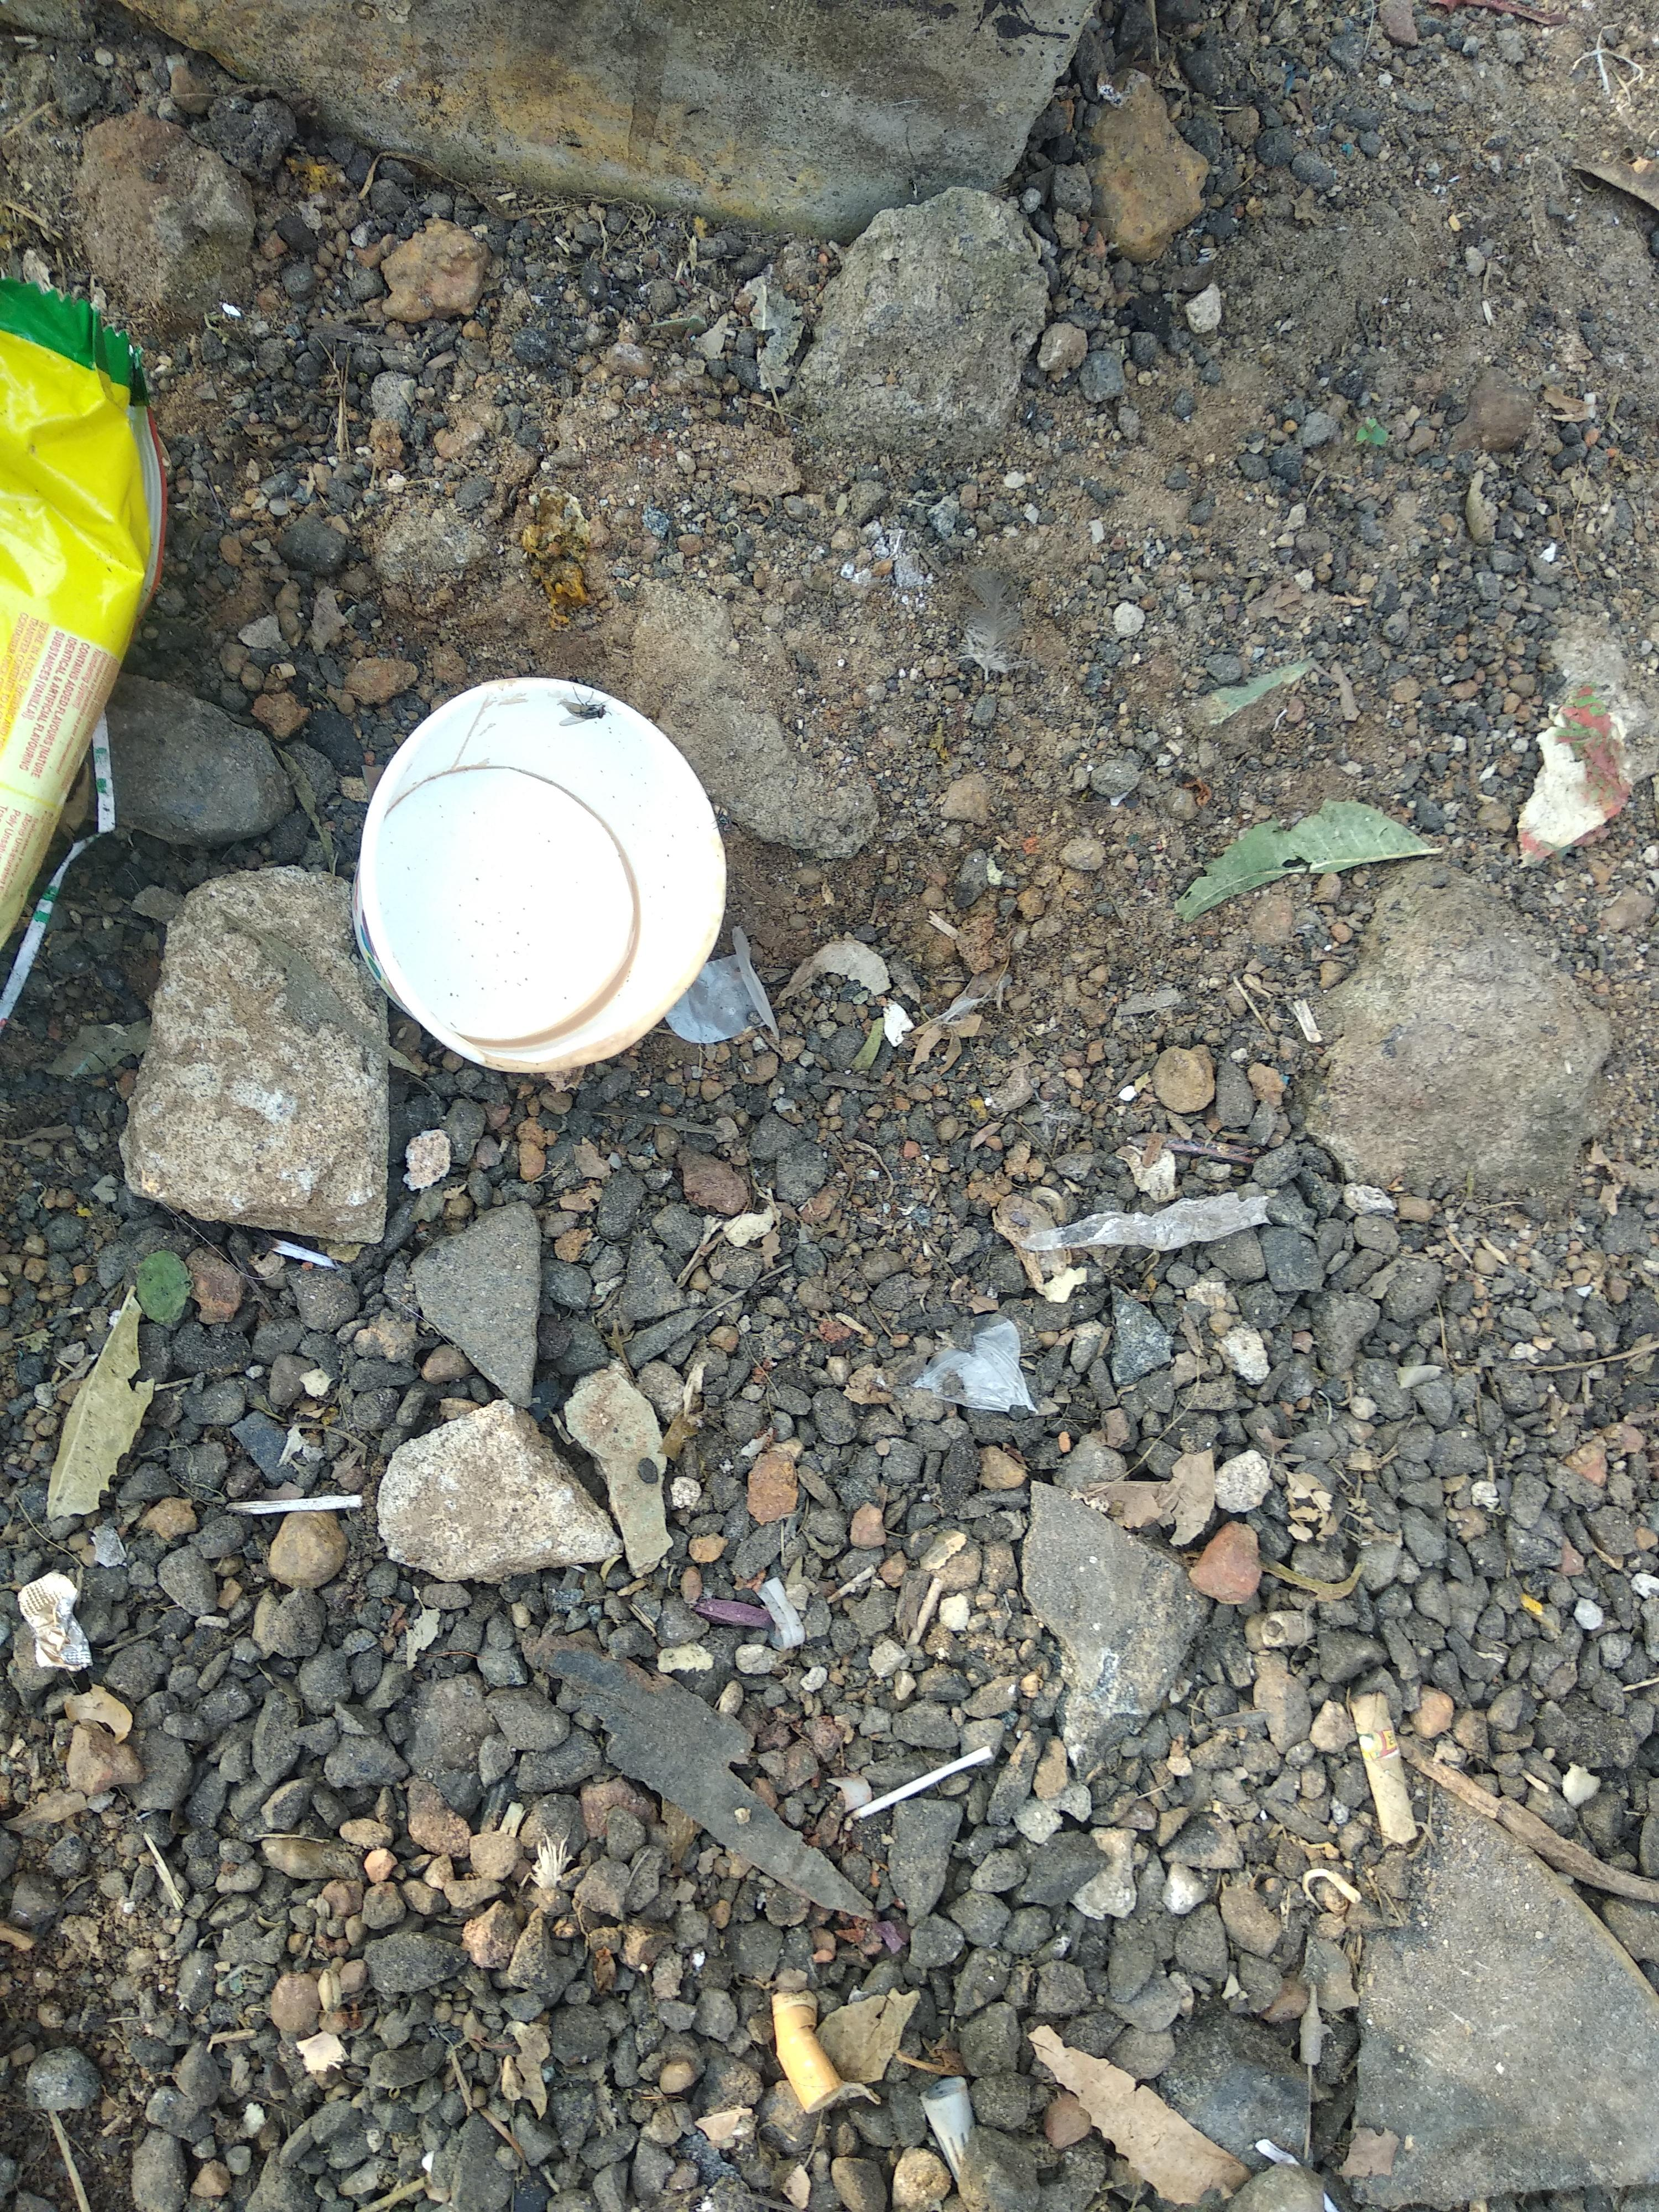trash: (0, 284, 744, 1097)
